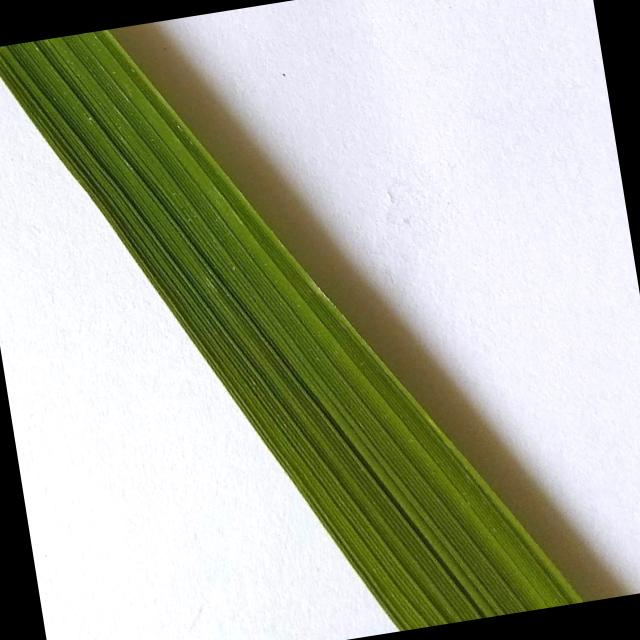Rice_Healthy: (0, 30, 583, 631)
